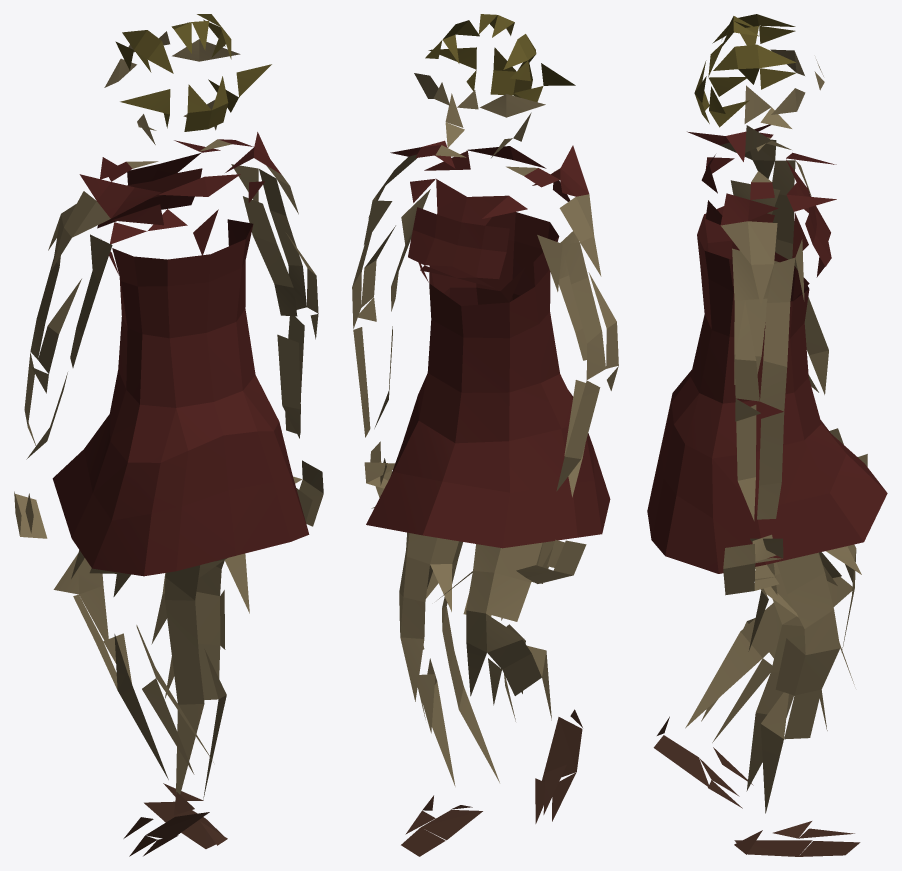
The model's file is personfar_0_w0.fbx.
3 renders of one model, left to right at view 1: azimuth 30°, elevation 25°; view 2: azimuth 150°, elevation 25°; view 3: azimuth 270°, elevation 25°, orthographic. The views are drawn at different scales.
Visible parts, largest first — view 1: Female; view 2: Female; view 3: Female.
Boxes of the visible parts, x1,y1,x2,y2 form: Female: [14, 14, 323, 856]; Female: [352, 14, 618, 856]; Female: [647, 14, 887, 856].
Bounding box in the file's own units: 0.3291 × 0.9694 × 0.2596.
